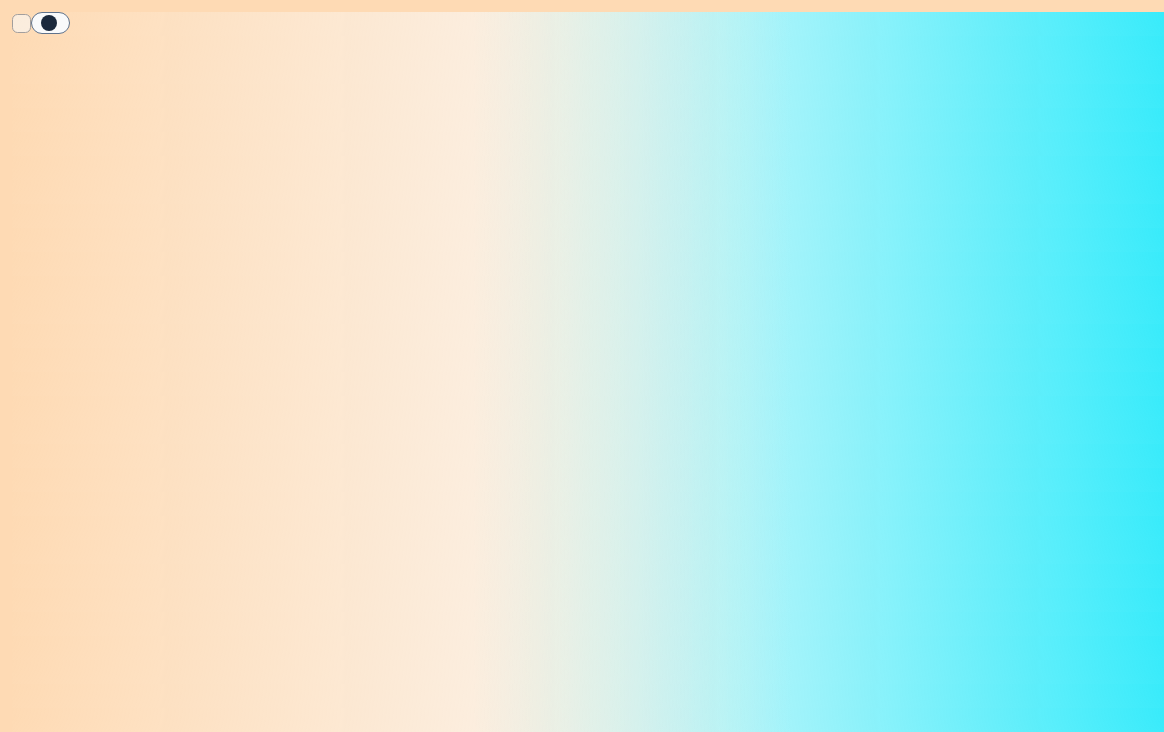
Scenario: Tier-1 styling contract › keeps checkbox/switch state and disabled hooks
Click the switch named "Contract switch" at (50, 23), box [31,12,70,34]
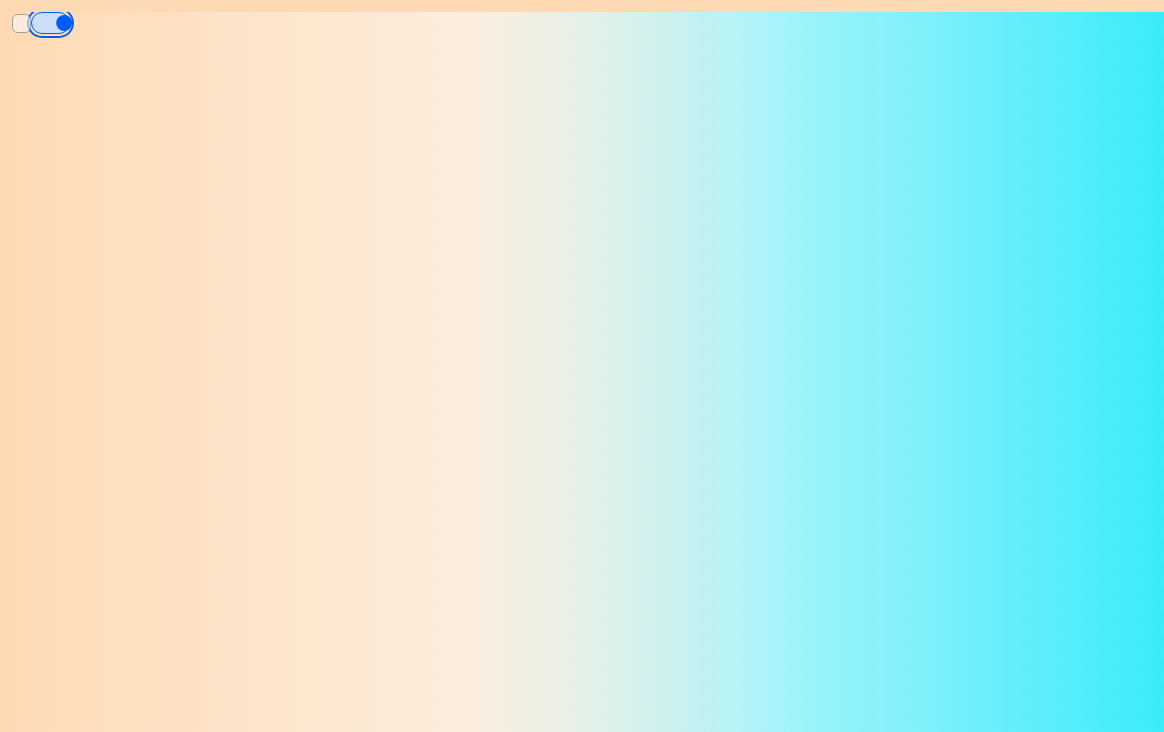
Result: the switch named "Contract switch" has attribute data-state="checked" at [31,12,70,34]
